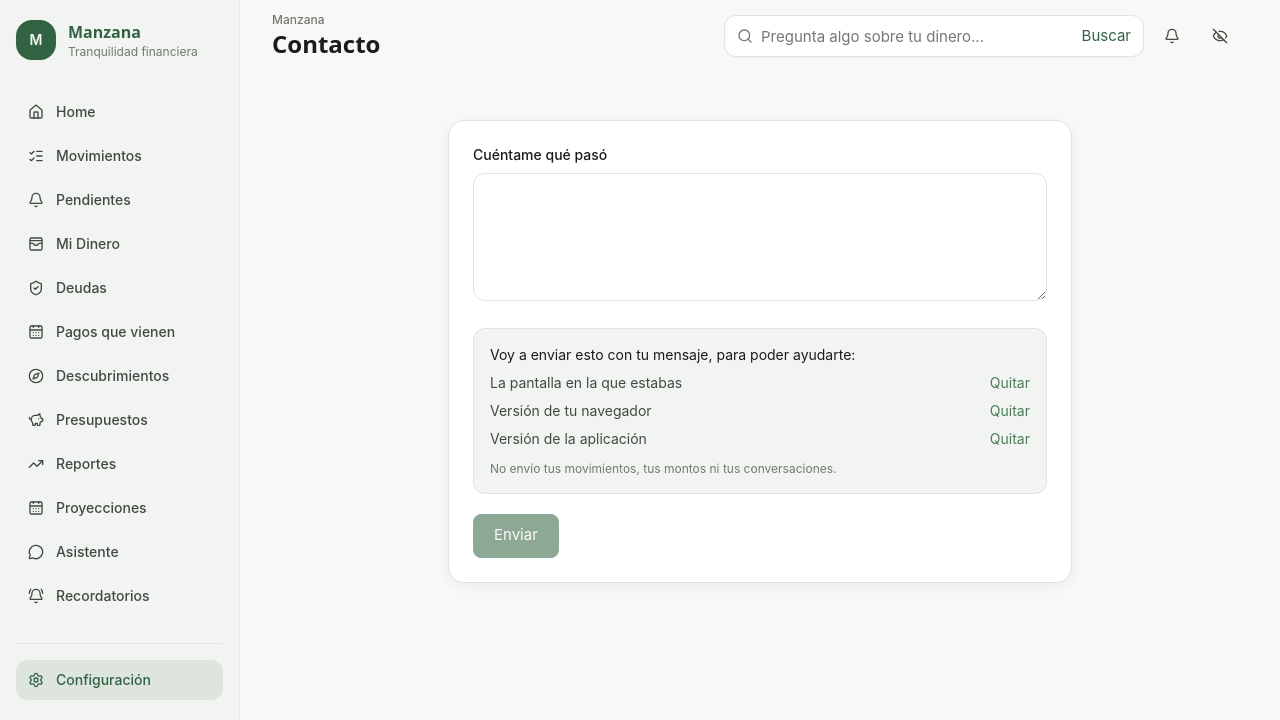
Test case: ContactScreen — RUL-AYUDA-09: el usuario ve qué se adjunta antes de enviar › camino feliz: envía y muestra confirmación
In the text box labelled "Cuéntame qué pasó": (760, 237) [473,173,1047,301], type "Ayuda por favor."
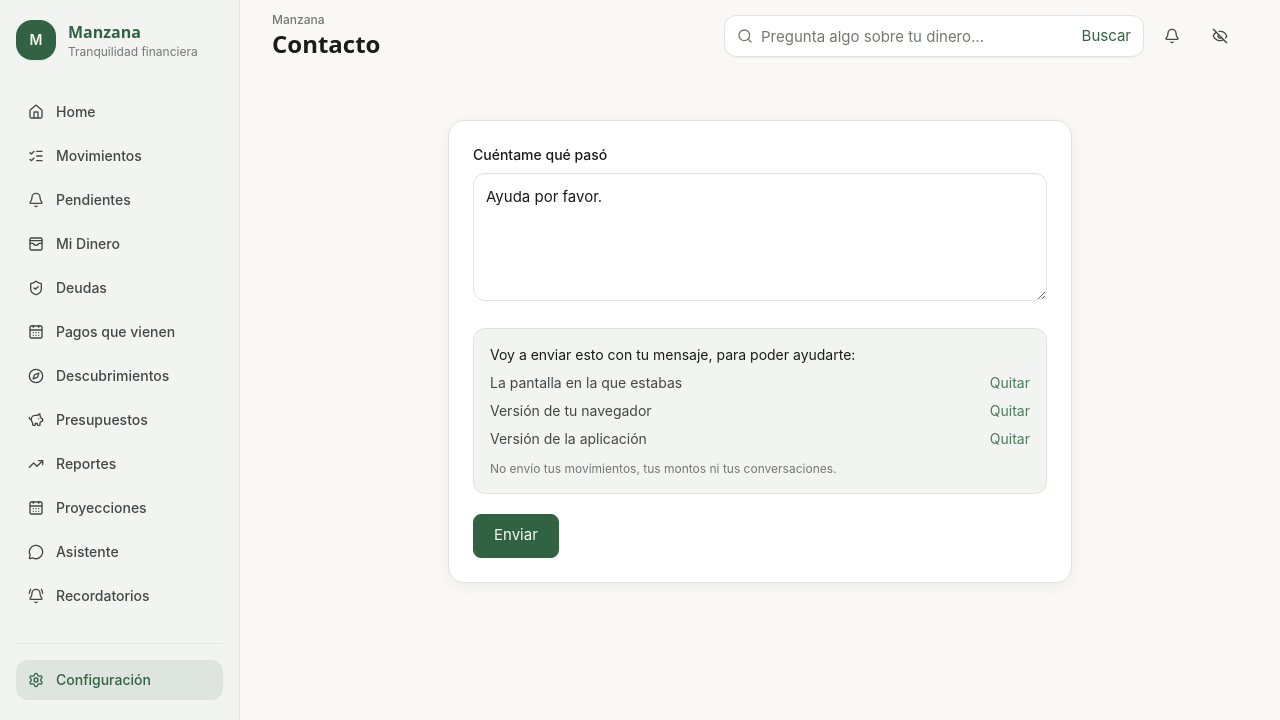
Click the button "Enviar": (516, 536) [473,514,559,558]
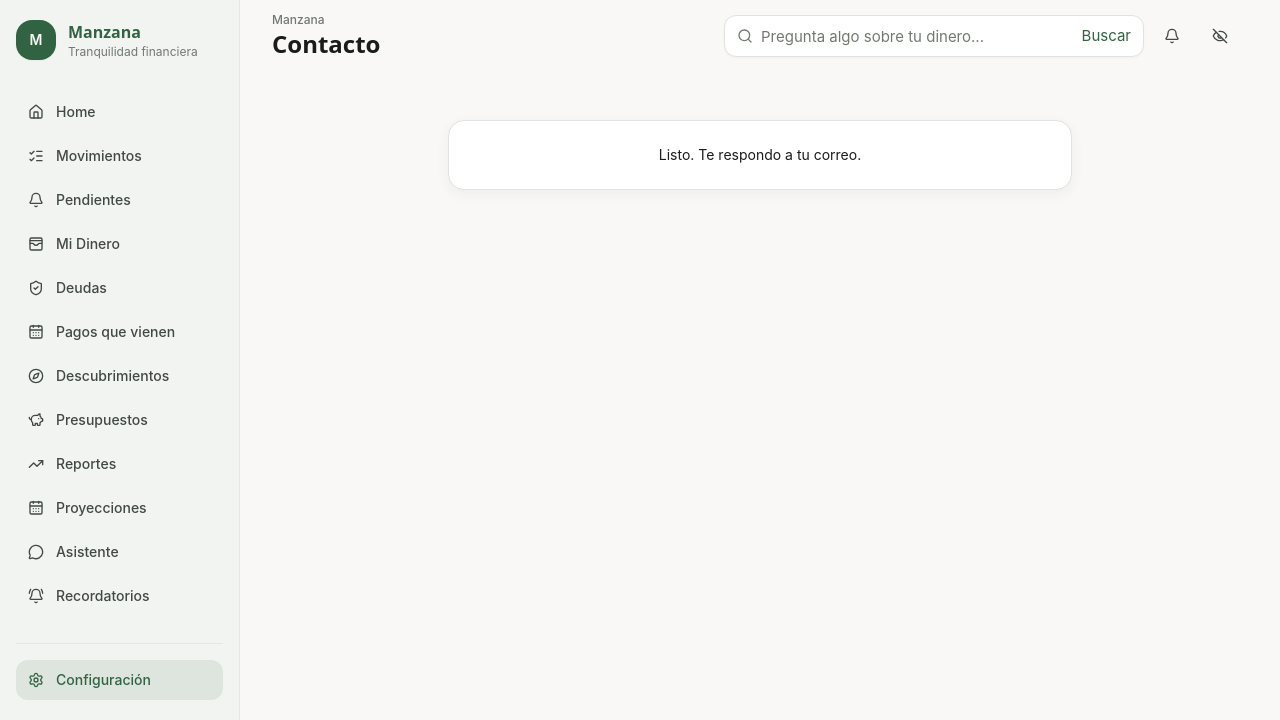
Check: the message shows "Listo", box [659,146,861,163]
